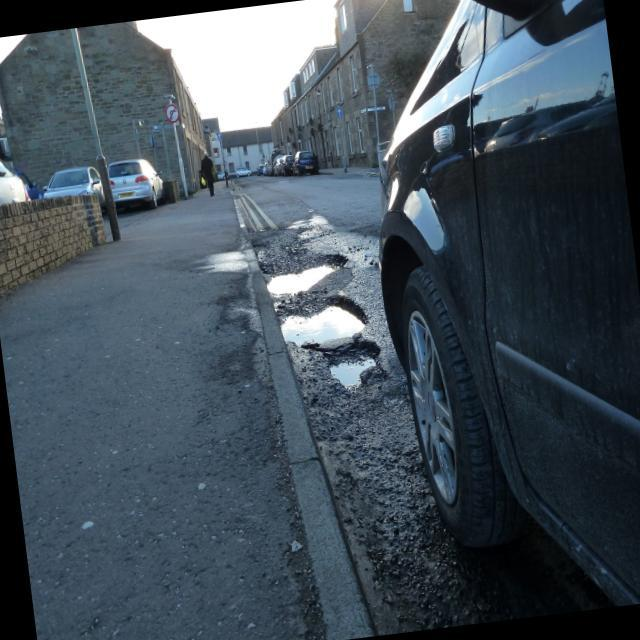Pothole: (268, 294, 392, 355), (302, 350, 407, 410), (245, 252, 364, 298)
